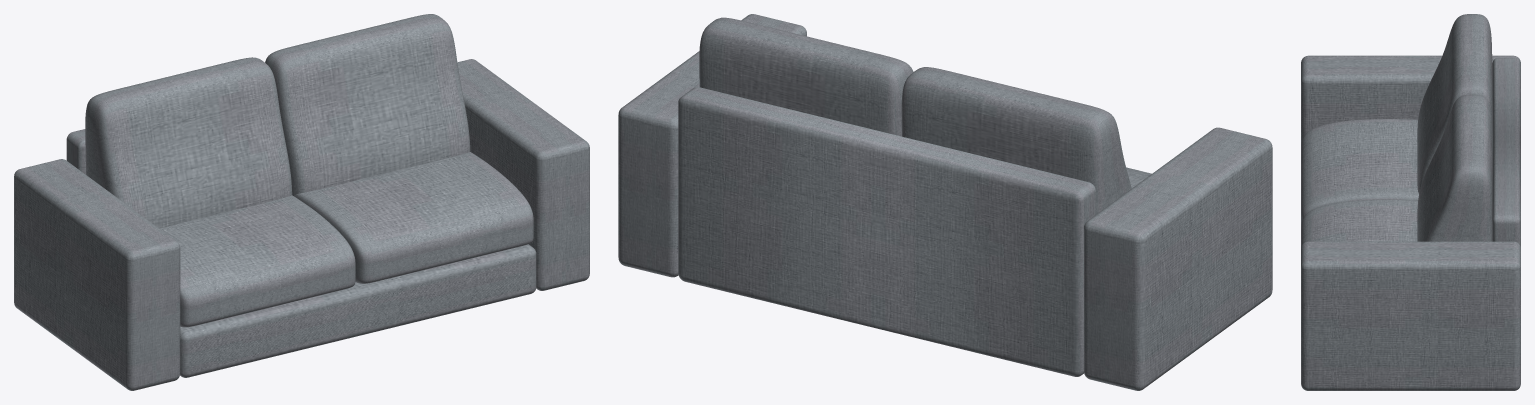
File: sofa3.glb
3 renders of one model, left to right at view 1: azimuth 30°, elevation 25°; view 2: azimuth 150°, elevation 25°; view 3: azimuth 270°, elevation 25°, orthographic. The views are drawn at different scales.
Visible parts, largest first — view 1: 立方体.007; view 2: 立方体.007; view 3: 立方体.007.
Boxes of the visible parts, x1=… form: 立方体.007: x1=14, y1=14, x2=589, y2=390; 立方体.007: x1=618, y1=14, x2=1272, y2=390; 立方体.007: x1=1301, y1=14, x2=1520, y2=390.
Bounding box in the file's own units: 2.29 × 1.01 × 1.01.
1 material, 1 textured.
